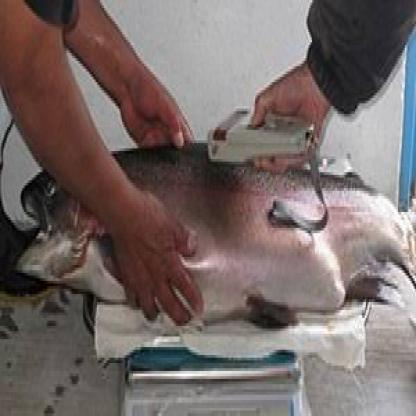fish: (18, 131, 414, 332)
